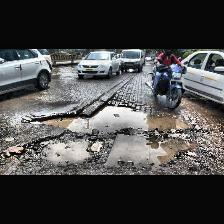pothole: (25, 100, 190, 132), (104, 131, 198, 167), (33, 132, 95, 164)
